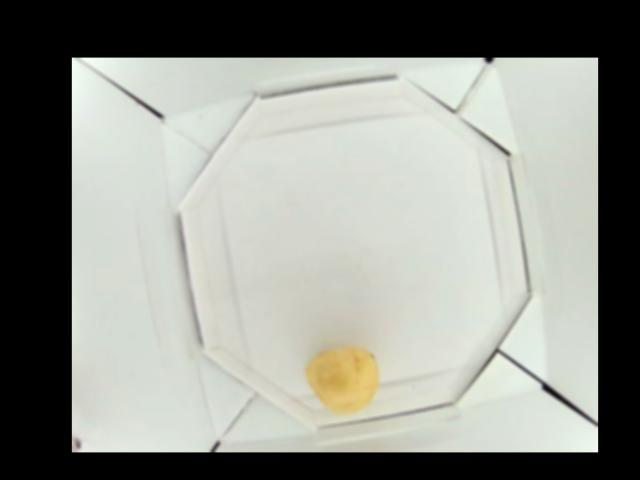Potato: (307, 345, 383, 415)
